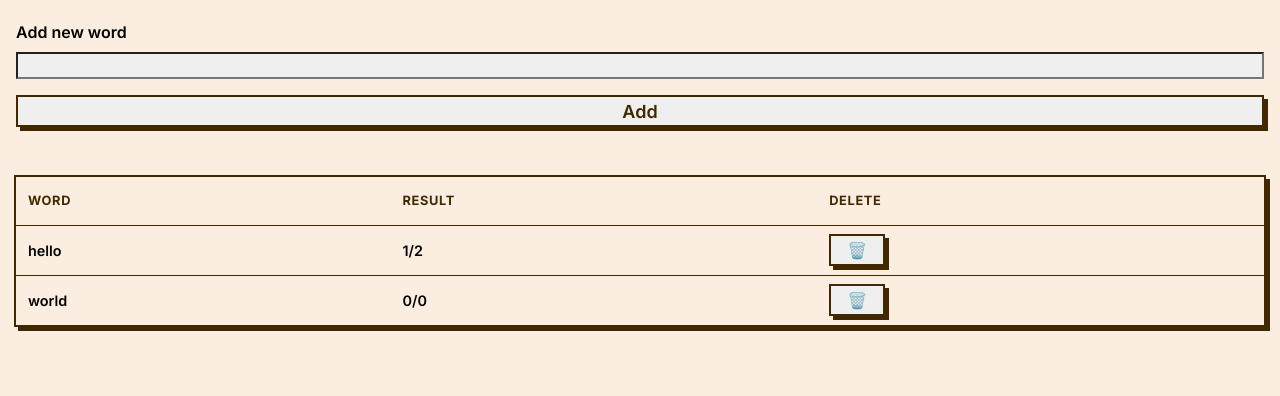
Scenario: MyWordsContent › shows duplicate error when word already exists
The image size is (1280, 396).
Type "hello" into the field labelled "Add new word" at [640, 66], box [16,52,1264,79]
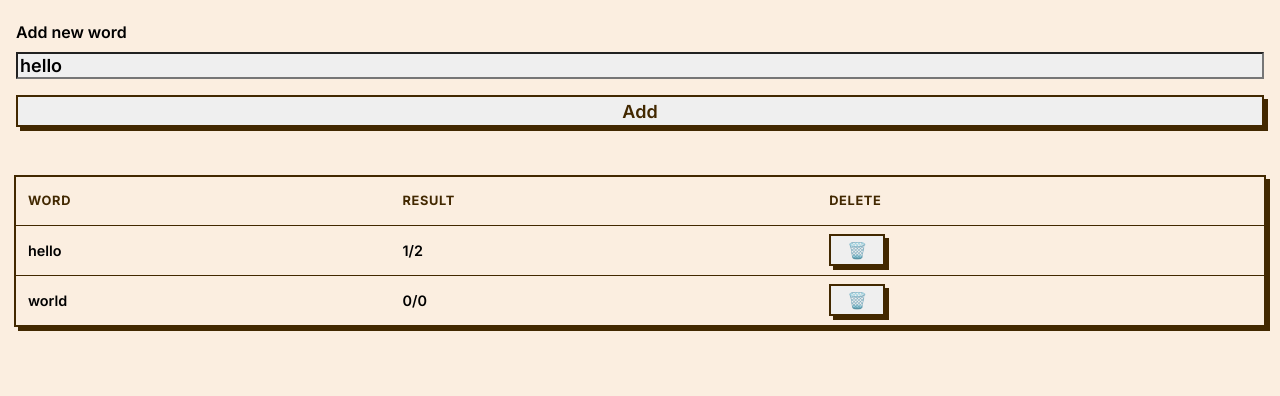
Submit the form "Add new word Add", box [16,16,1264,127]
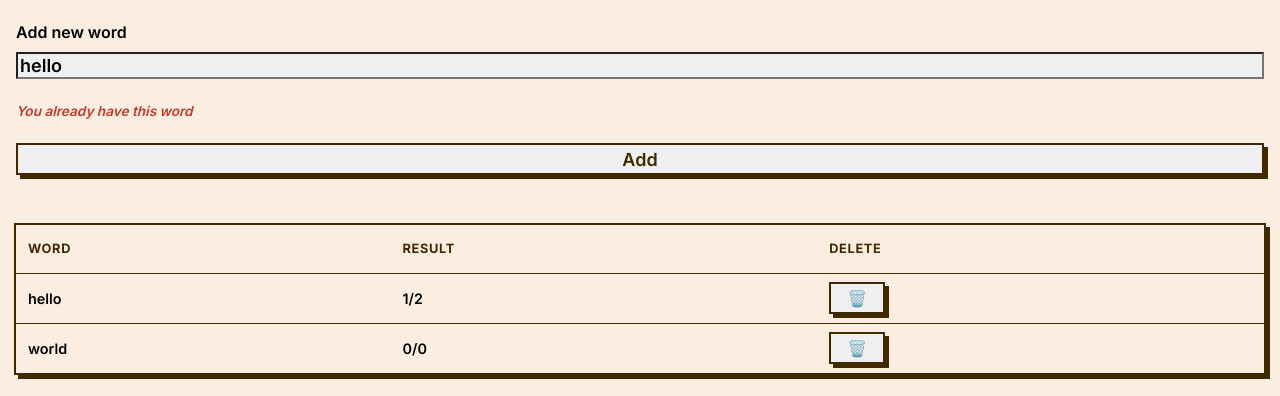
Now the message reads "You already have this word", box [16,103,193,119]
